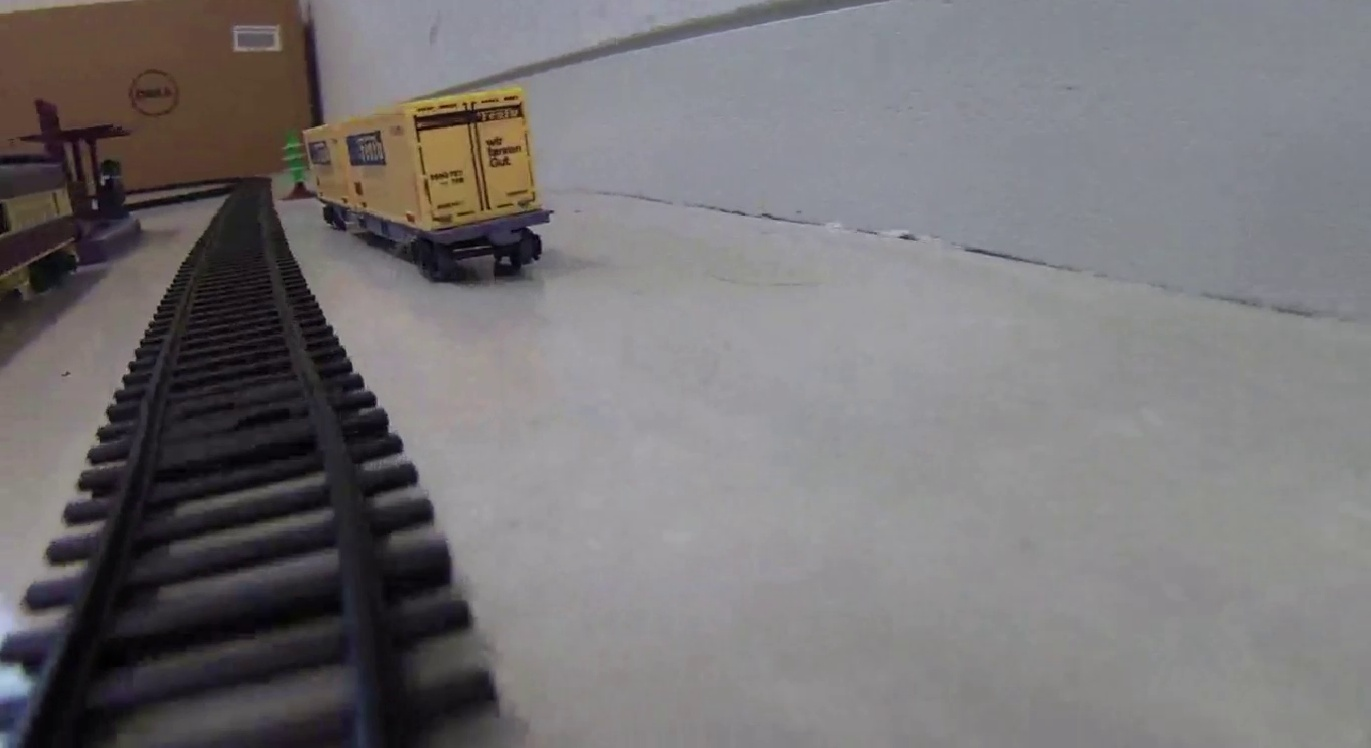tree: (278, 129, 310, 200)
